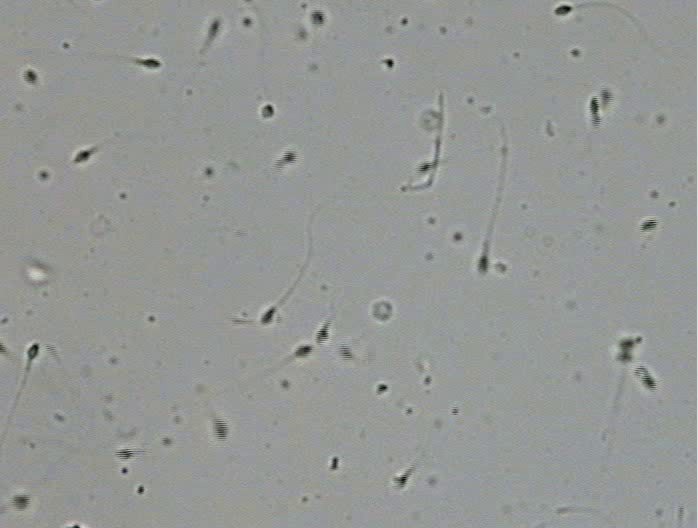Impurity: (372, 300, 393, 321)
S: (635, 366, 656, 391), (615, 337, 634, 362), (212, 417, 228, 441), (589, 96, 601, 126), (12, 494, 30, 511), (261, 307, 276, 325), (281, 150, 298, 165), (73, 149, 91, 163), (295, 344, 313, 358), (315, 327, 329, 345), (639, 219, 658, 232), (139, 58, 161, 69), (23, 69, 38, 85), (477, 254, 489, 274), (339, 344, 353, 361), (600, 88, 612, 106), (311, 10, 325, 25), (416, 161, 432, 174), (27, 343, 39, 360), (209, 19, 220, 37), (554, 5, 572, 16), (392, 475, 407, 488), (261, 104, 274, 118), (115, 449, 131, 459), (1, 342, 7, 354)
